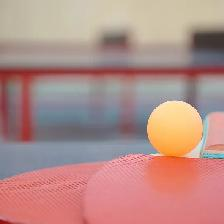YellowBall: (146, 99, 203, 157)
